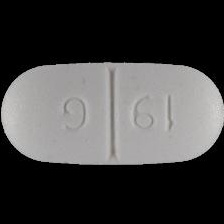0536-1017: (0, 0, 224, 224)
